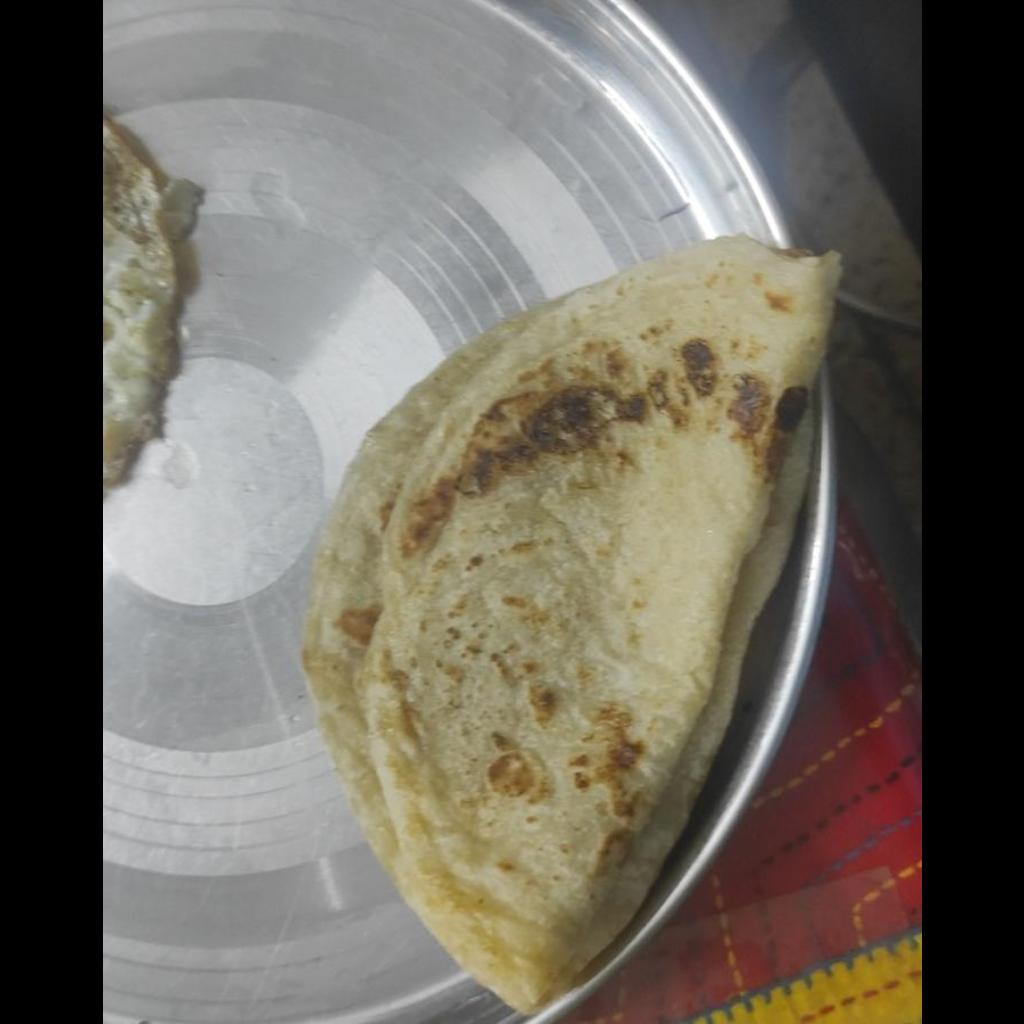egg-poached: (102, 109, 202, 497)
ruti: (302, 226, 839, 1017)
